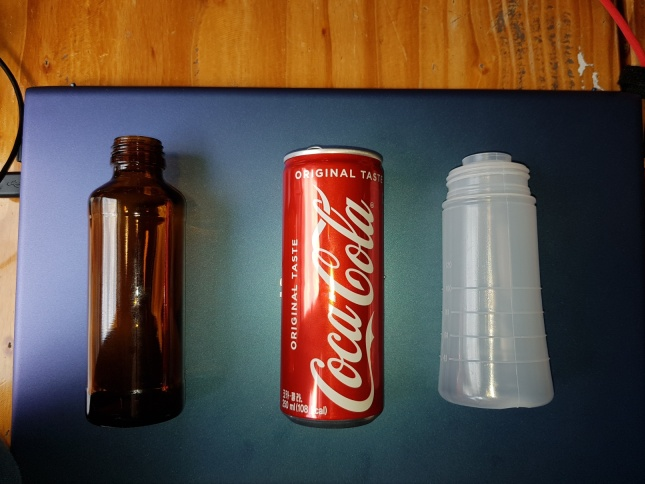Can: (275, 143, 388, 430)
Glass: (81, 131, 188, 430)
Plastic: (432, 150, 559, 413)
